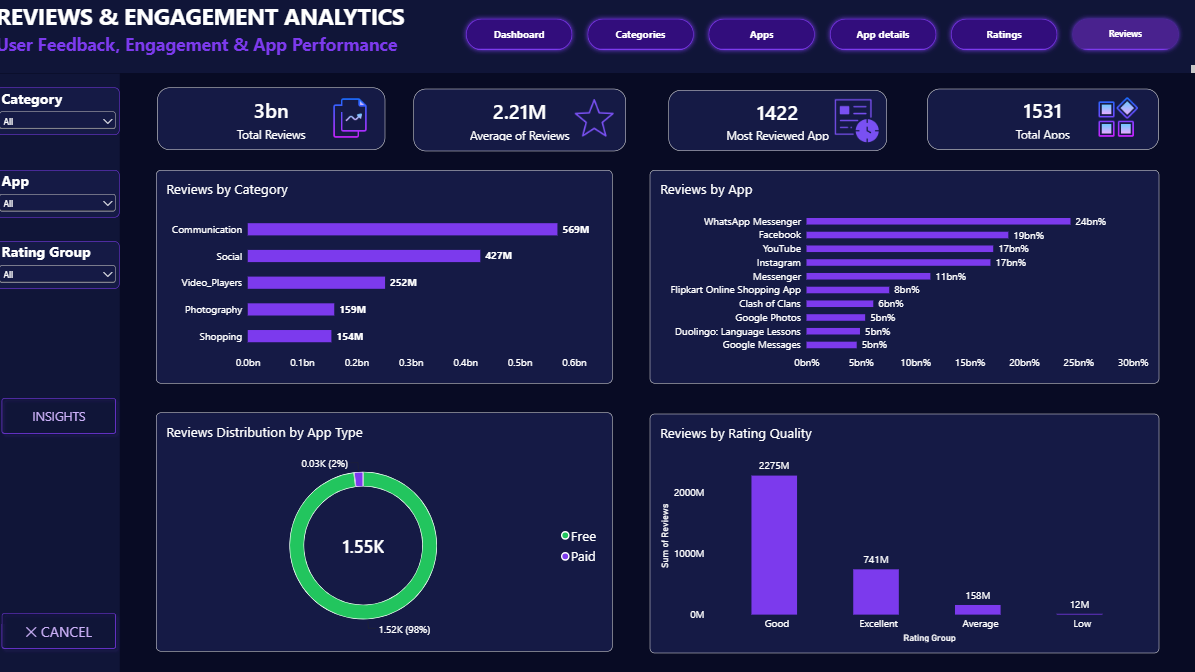

The dashboard page shown, as its layout file describes it:
{"tool":"powerbi","page":{"name":"Reviews","canvas":[1920,1080],"ordinal":5},"visuals":[{"type":"textbox","title":"REVIEWS & ENGAGEMENT ANALYTICS","box":[0,0,1920,116.9],"z":0},{"type":"shape","box":[0,117.4,197.8,963],"z":1000},{"type":"card","fields":{"Values":["google_play_analysis google_play_apps.Total Reviews"]},"box":[257.5,140,365,100],"z":2000},{"type":"card","fields":{"Values":["Avg(google_play_analysis google_play_apps.Reviews)"]},"box":[667.5,142.5,340,100],"z":3000},{"type":"card","fields":{"Values":["Count(google_play_analysis google_play_apps.Reviews)"]},"box":[1076.7,144.8,349.3,97.7],"z":4000},{"type":"card","fields":{"Values":["Count(google_play_analysis google_play_apps.Category Hierarchy.App)"]},"box":[1490,142.5,370,97.5],"z":5000},{"type":"clusteredBarChart","title":"Reviews by Category","fields":{"Category":["google_play_analysis google_play_apps.Category"],"Y":["Sum(google_play_analysis google_play_apps.Reviews)"]},"box":[256.5,271.7,730.4,341.3],"z":6000},{"type":"barChart","title":"Reviews by App","fields":{"Category":["google_play_analysis google_play_apps.App"],"Y":["Sum(google_play_analysis google_play_apps.Reviews)"]},"box":[1045.7,271.7,815.2,341.3],"z":7000},{"type":"donutChart","title":"Reviews Distribution by App Type","fields":{"Category":["google_play_analysis google_play_apps.Type"],"Y":["CountNonNull(google_play_analysis google_play_apps.Category Hierarchy.App)"]},"box":[256.5,660.9,730.4,382.6],"z":8000},{"type":"columnChart","title":"Reviews by Rating Quality","fields":{"Category":["google_play_analysis google_play_apps.Rating Group"],"Y":["Sum(google_play_analysis google_play_apps.Reviews)"]},"box":[1046,661,815,383],"z":9000},{"type":"slicer","fields":{"Values":["google_play_analysis google_play_apps.App"]},"box":[0,271.4,197.3,76],"z":10000},{"type":"slicer","fields":{"Values":["google_play_analysis google_play_apps.Rating Group"]},"box":[0,385.5,197.3,76],"z":12000},{"type":"slicer","fields":{"Values":["google_play_analysis google_play_apps.Category"]},"box":[0,139.3,197.3,76],"z":13000},{"type":"pageNavigator","box":[743.8,21.7,1161.8,67],"z":14000},{"type":"image","box":[1749.9,148.4,87.5,82.5],"z":15000},{"type":"image","box":[510,150,112.5,77.5],"z":16000},{"type":"image","box":[925,150,62.5,77.5],"z":17000},{"type":"image","box":[1342.8,153.8,70.6,77.8],"z":18000},{"type":"actionButton","title":"INSIGHTS","box":[0,628,201,74.9],"z":19000},{"type":"actionButton","title":"INSIGHTS","box":[0,973,201,74.9],"z":20000}]}

Visuals, with their boxes in screenshot pixels (x1, y1, x2, y2), scaled from the page's 1920x1080 canvas onto the 1195x672 screenshot:
"REVIEWS & ENGAGEMENT ANALYTICS" textbox: box(0, 0, 1194, 73)
shape: box(0, 73, 123, 671)
card - google_play_analysis google_play_apps.Total Reviews: box(160, 87, 387, 149)
card - Avg(google_play_analysis google_play_apps.Reviews): box(415, 89, 627, 151)
card - Count(google_play_analysis google_play_apps.Reviews): box(670, 90, 888, 151)
card - Count(google_play_analysis google_play_apps.Category Hierarchy.App): box(927, 89, 1158, 149)
"Reviews by Category" clusteredBarChart: box(160, 169, 614, 381)
"Reviews by App" barChart: box(651, 169, 1158, 381)
"Reviews Distribution by App Type" donutChart: box(160, 411, 614, 649)
"Reviews by Rating Quality" columnChart: box(651, 411, 1158, 650)
slicer - google_play_analysis google_play_apps.App: box(0, 169, 123, 216)
slicer - google_play_analysis google_play_apps.Rating Group: box(0, 240, 123, 287)
slicer - google_play_analysis google_play_apps.Category: box(0, 87, 123, 134)
pageNavigator: box(463, 14, 1186, 55)
image: box(1089, 92, 1144, 144)
image: box(317, 93, 387, 142)
image: box(576, 93, 615, 142)
image: box(836, 96, 880, 144)
"INSIGHTS" actionButton: box(0, 391, 125, 437)
"INSIGHTS" actionButton: box(0, 605, 125, 652)
